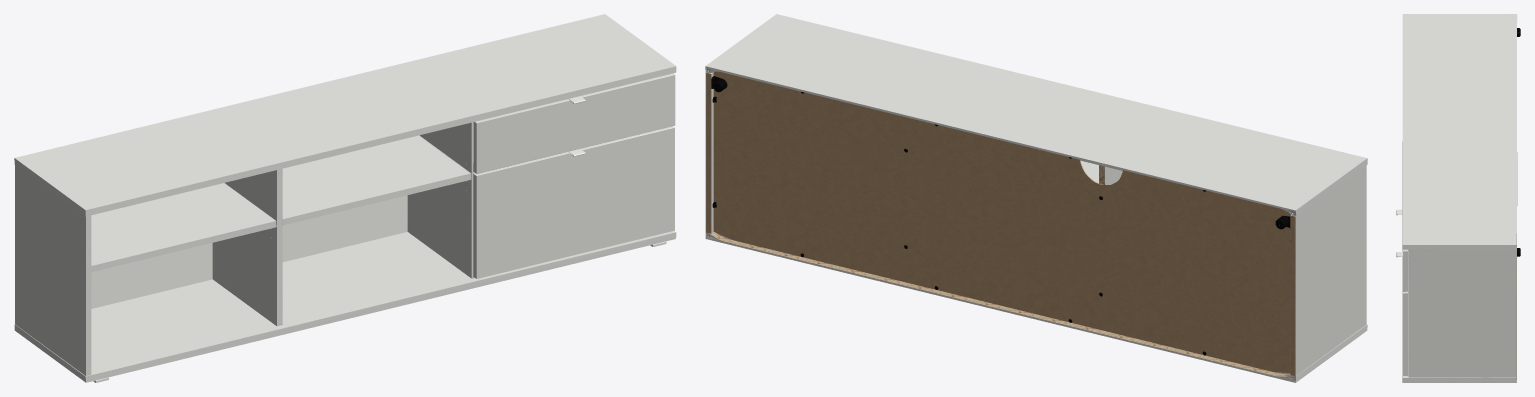
The picture shows the model from 3 angles, left to right: view 1: azimuth 30°, elevation 25°; view 2: azimuth 150°, elevation 25°; view 3: azimuth 270°, elevation 25°; orthographic projection. The views are drawn at different scales.
Parts seen in each view (by area): view 1: 80542857-VIHALS001; view 2: 80542857-VIHALS001; view 3: 80542857-VIHALS001.
Boxes of the visible parts, bbox=[...] form: 80542857-VIHALS001: bbox=[14, 14, 676, 382]; 80542857-VIHALS001: bbox=[705, 14, 1367, 382]; 80542857-VIHALS001: bbox=[1396, 14, 1520, 382].
Bounding box in the file's own units: 1.76 × 0.5002 × 0.401.
Materials: 1 (1 with a texture image).
